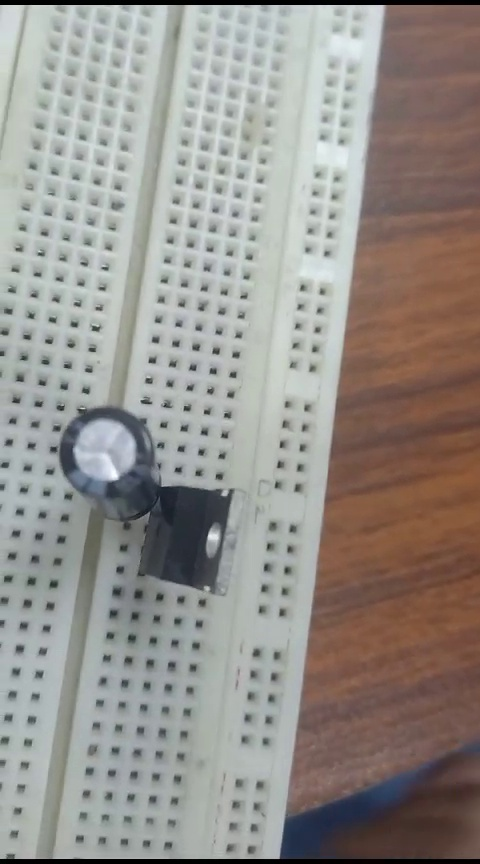capacitor: (47, 396, 160, 517)
voltage regulator: (148, 479, 243, 599)
